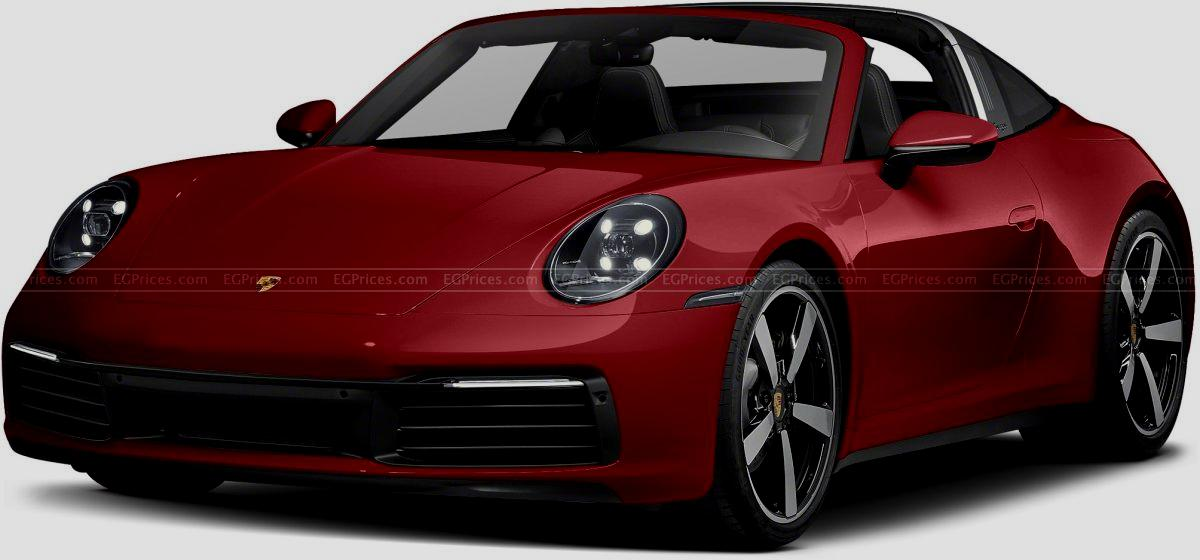porsche: (245, 269, 286, 297)
